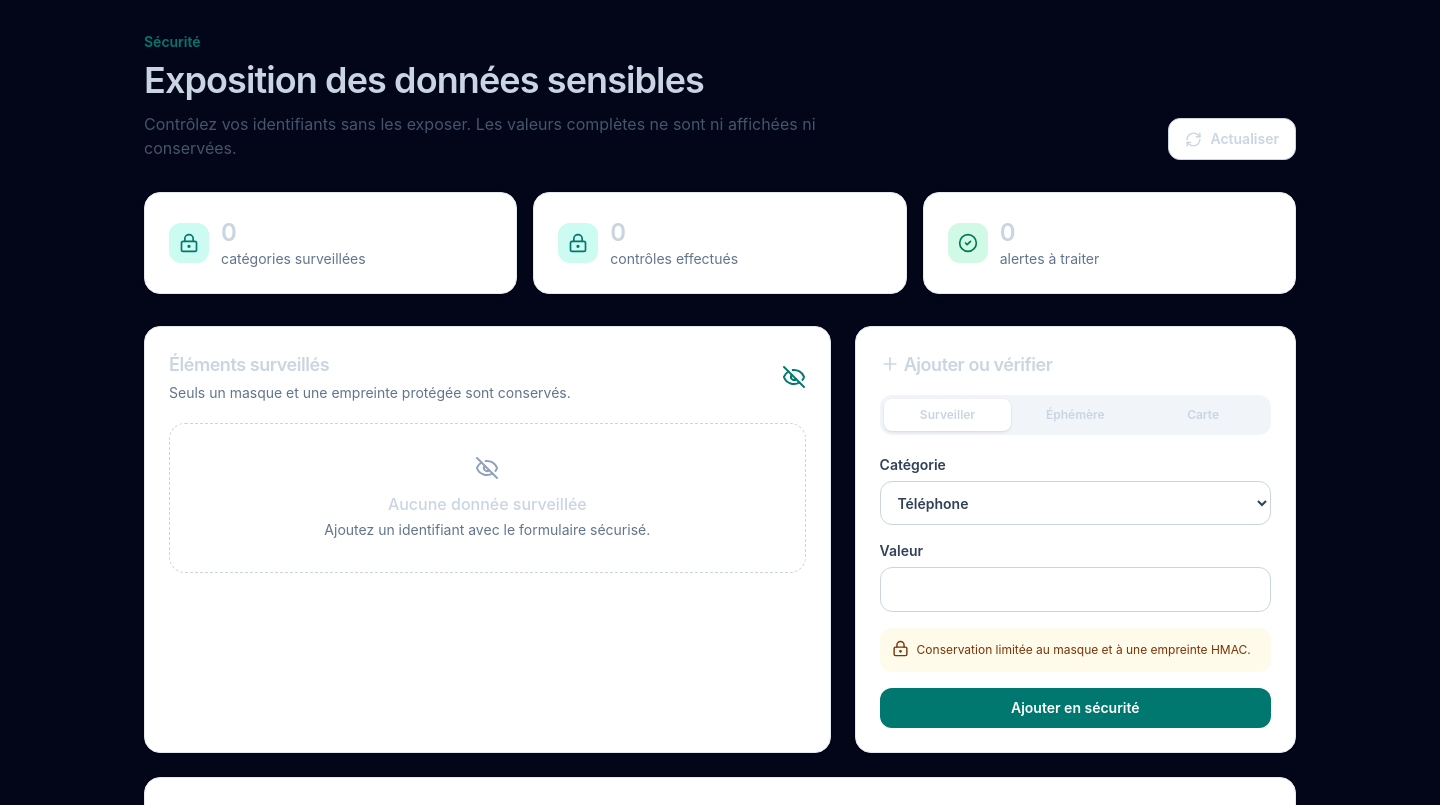
SensitiveExposurePage › valide un NIR dans le corps de requête sans le placer dans URL
Expected: the text "Aucune donnée surveillée" is shown, [388,494,587,514]
Click the button "Éphémère" at (1075, 415), box [1011,399,1139,431]
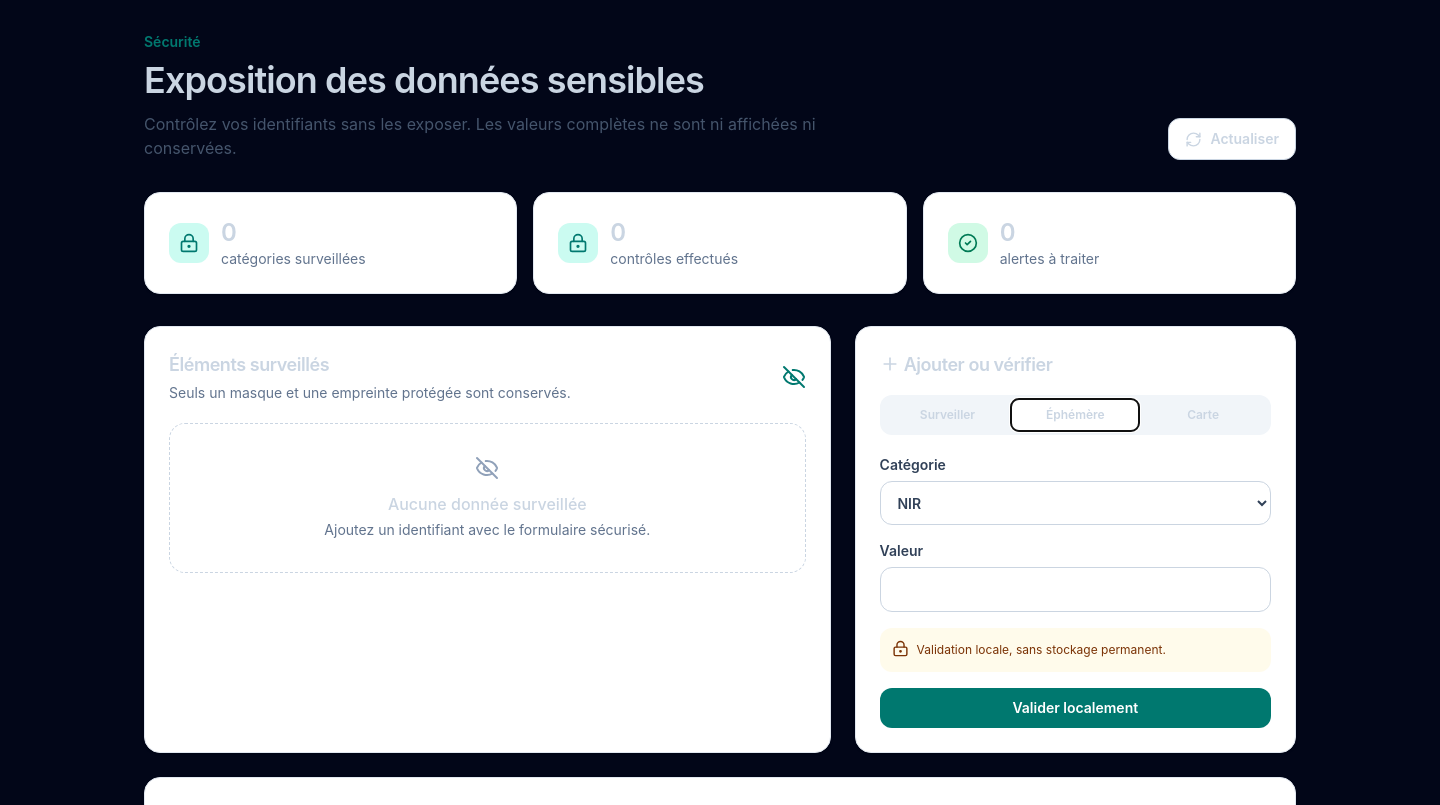
Type "100019999999975" into the field labelled "Valeur" at (1075, 589), box [880,567,1271,612]
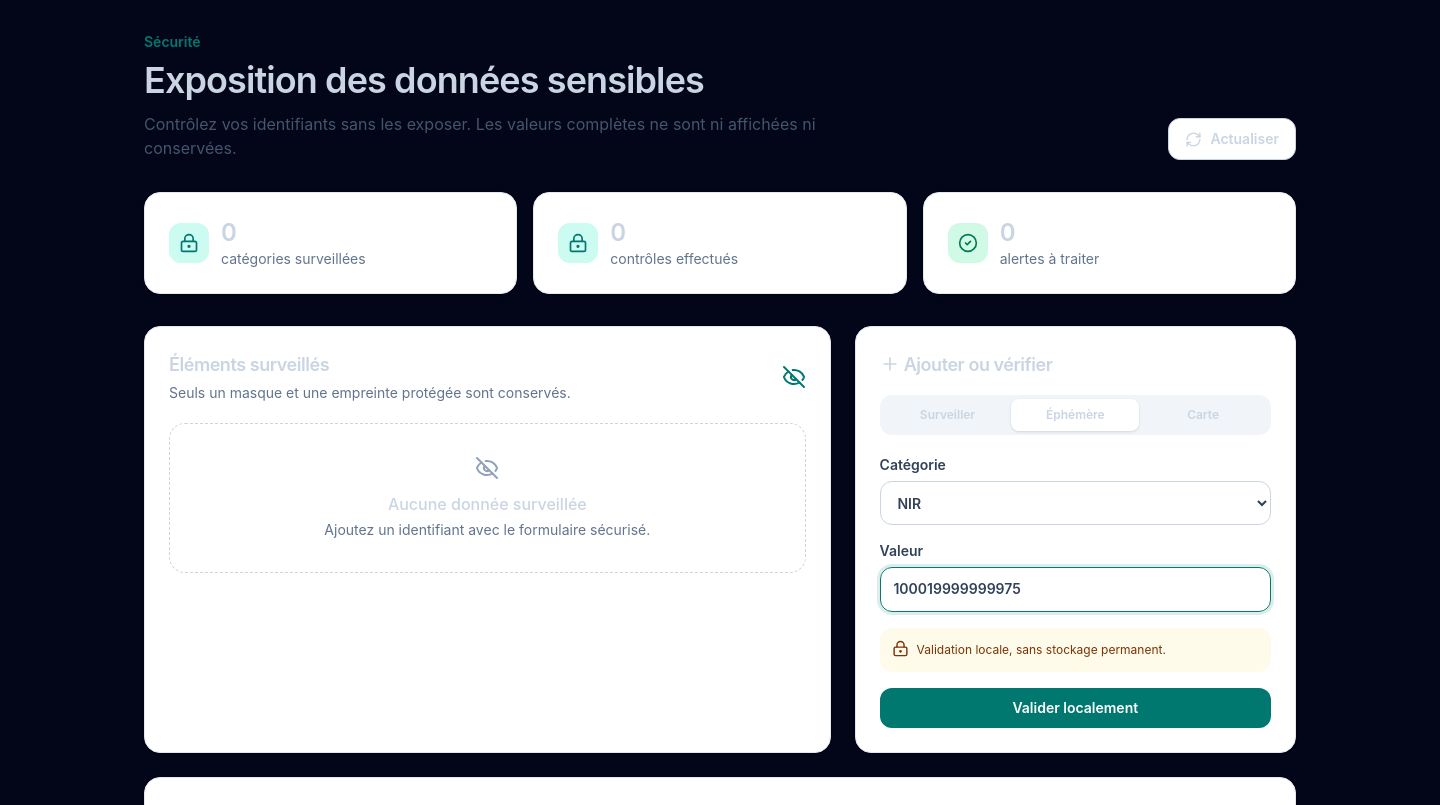
Click the button "Valider localement" at (1075, 708), box [880,688,1271,728]
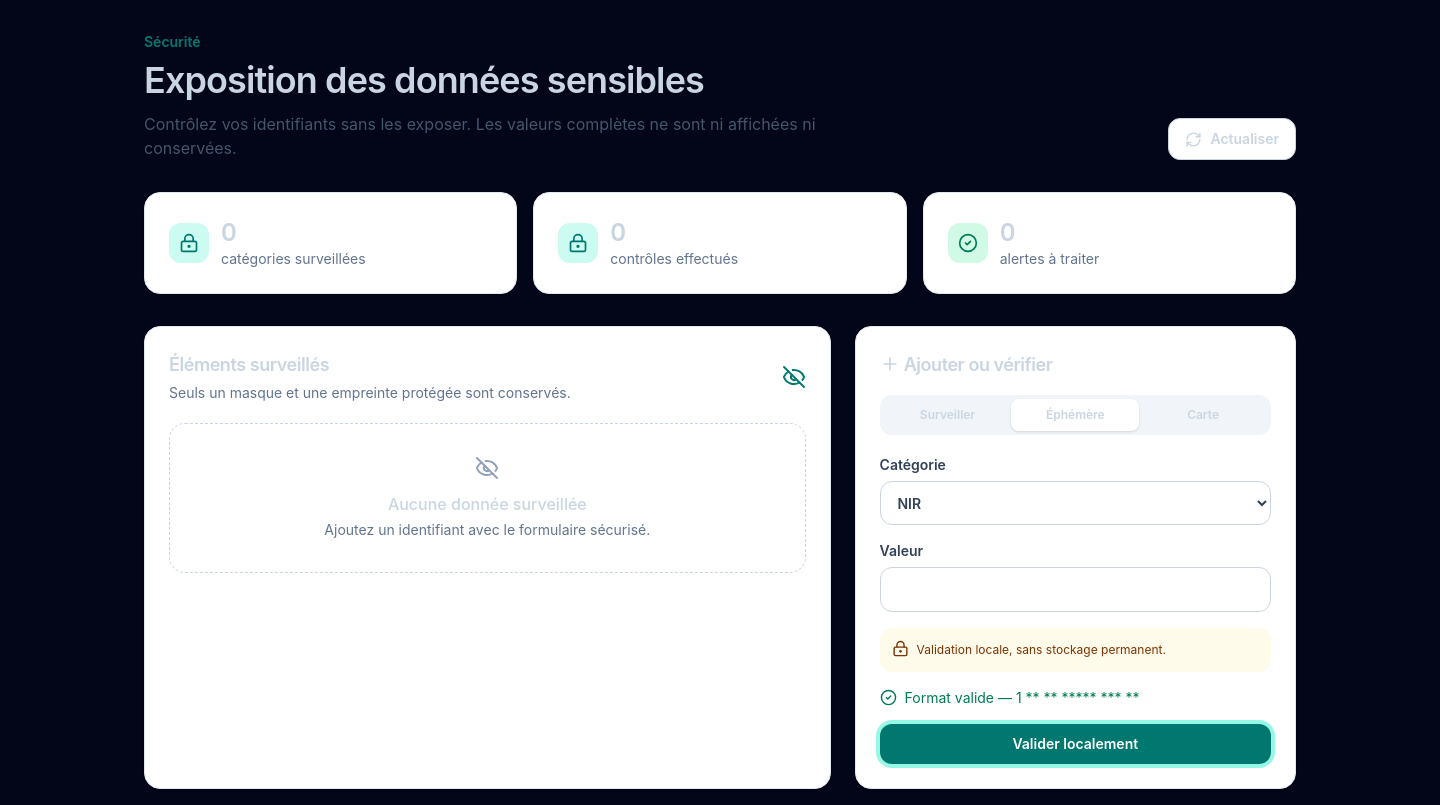
Expected: the text "100019999999975" is not shown
Now the text "Format valide — 1 ** ** ***** *** **" is shown, box [880,688,1140,706]
